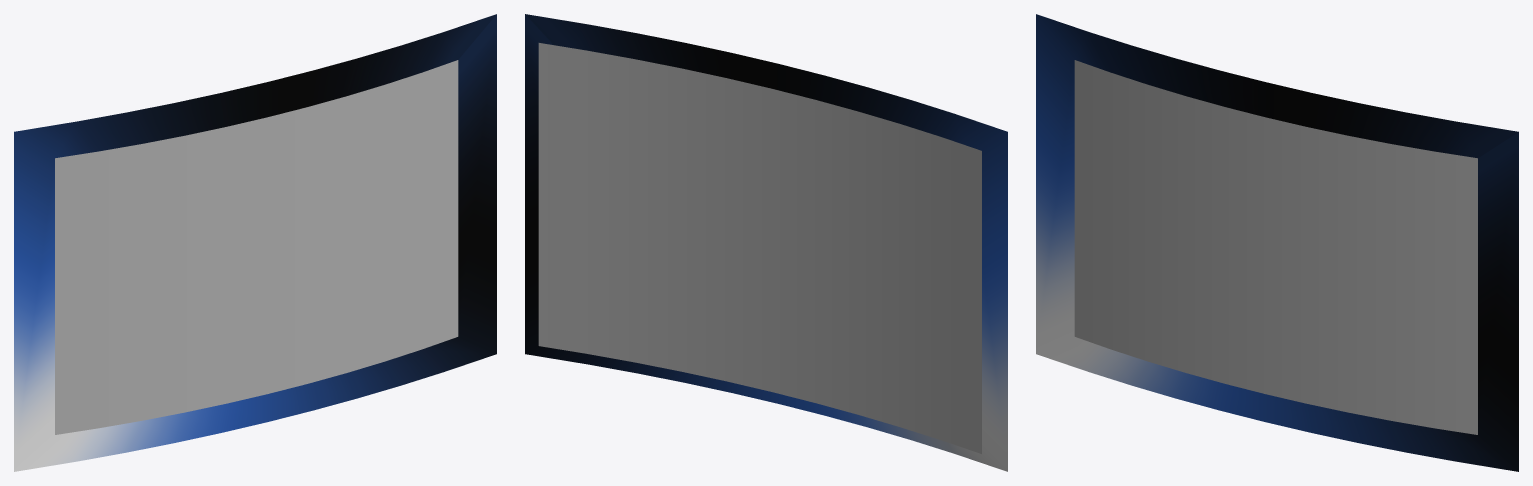
The model's file is ___button_channel_10x5.fbx.
The picture shows the model from 3 angles, left to right: view 1: azimuth 30°, elevation 25°; view 2: azimuth 150°, elevation 25°; view 3: azimuth 330°, elevation 25°; orthographic projection.
Visible parts, largest first — view 1: ___button_channel_10x5, ___glow; view 2: ___button_channel_10x5, ___glow; view 3: ___button_channel_10x5, ___glow.
Part boxes in pixels (left/top/right/bottom): ___button_channel_10x5: left=55, top=60, right=458, bottom=434; ___glow: left=14, top=14, right=496, bottom=471; ___button_channel_10x5: left=538, top=43, right=981, bottom=453; ___glow: left=525, top=14, right=1007, bottom=471; ___button_channel_10x5: left=1074, top=60, right=1477, bottom=434; ___glow: left=1036, top=14, right=1518, bottom=471.
Bounding box in the file's own units: 18.91 × 12.73 × 1.26.
